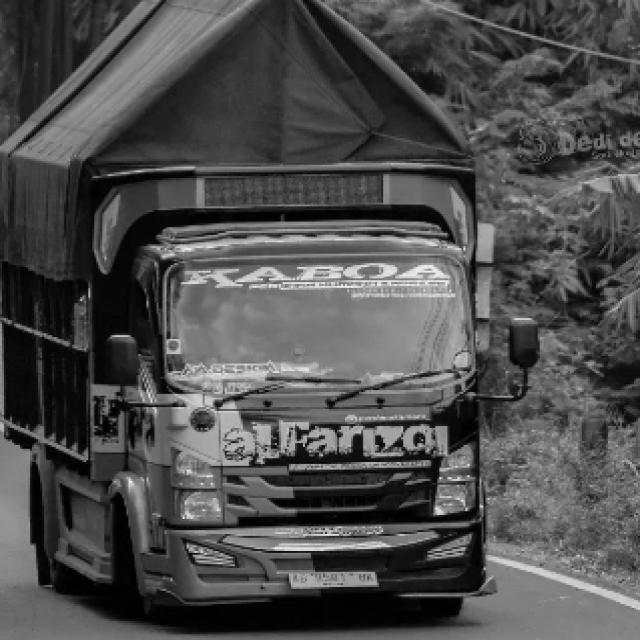Truck: (0, 0, 517, 628)
